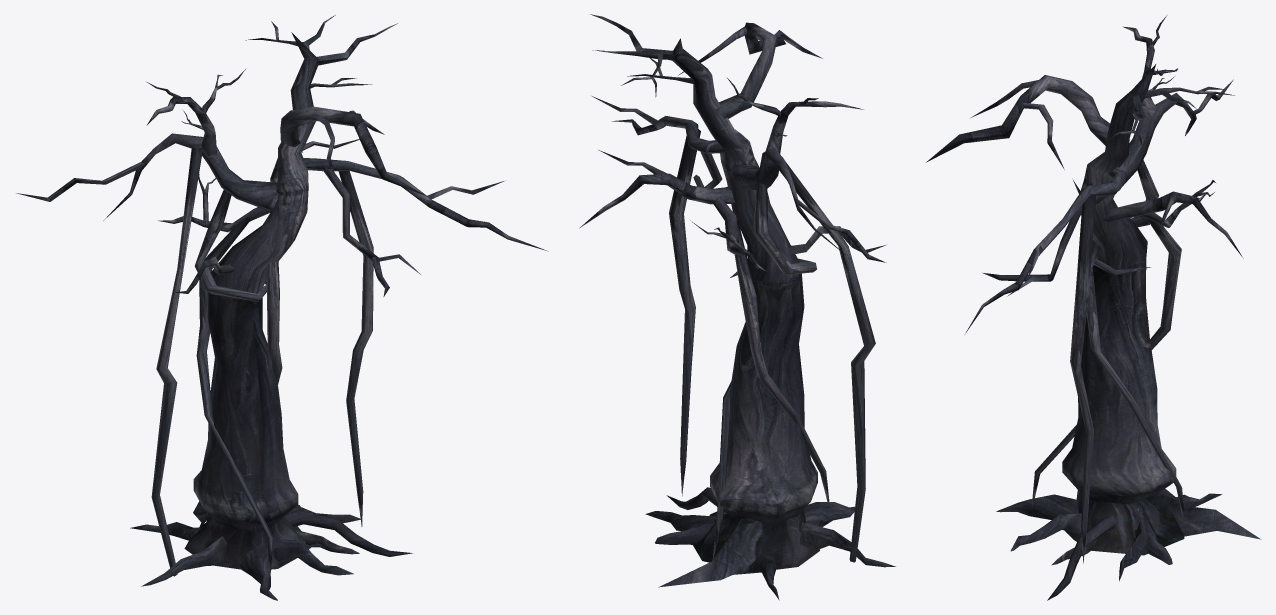
The model's file is Yland2_sg_01 Yland2.FBX.
The picture shows the model from 3 angles, left to right: view 1: azimuth 30°, elevation 25°; view 2: azimuth 150°, elevation 25°; view 3: azimuth 270°, elevation 25°; orthographic projection. The views are drawn at different scales.
Visible parts, largest first — view 1: Yland2_sg_01 Yland2; view 2: Yland2_sg_01 Yland2; view 3: Yland2_sg_01 Yland2.
Boxes of the visible parts, x1,y1,x2,y2 form: Yland2_sg_01 Yland2: (16, 15, 548, 600); Yland2_sg_01 Yland2: (579, 14, 895, 600); Yland2_sg_01 Yland2: (926, 15, 1261, 600).
Size of the model in its own units: 51.73 by 61.78 by 37.16.
